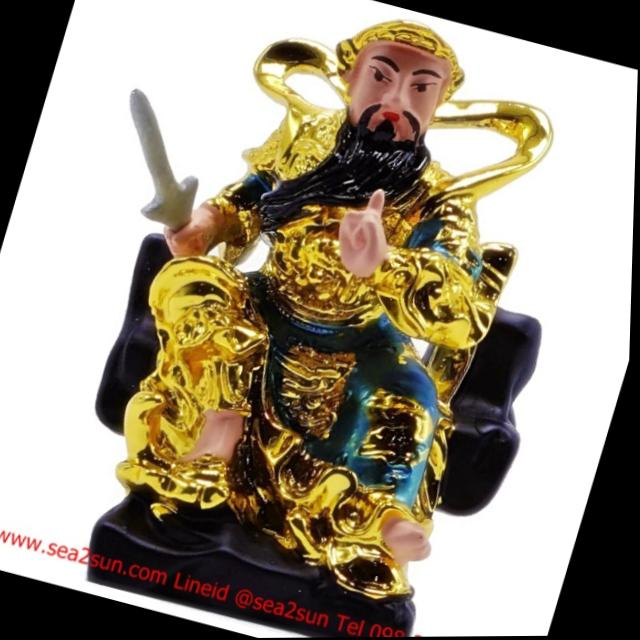Xuan wu: (74, 0, 580, 598)
